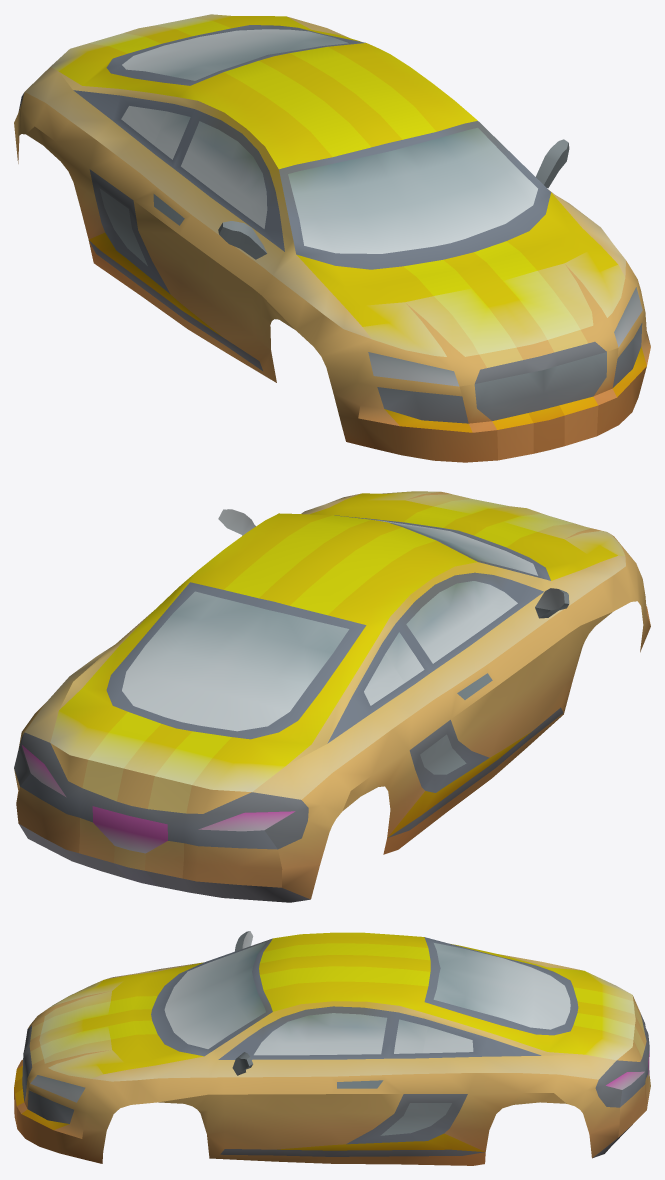
The model's file is supercar_00.glb.
The picture shows the model from 3 angles, top to bottom: view 1: azimuth 30°, elevation 25°; view 2: azimuth 150°, elevation 25°; view 3: azimuth 270°, elevation 25°; orthographic projection. The views are drawn at different scales.
Visible parts, largest first — view 1: supercar_00; view 2: supercar_00; view 3: supercar_00.
Boxes of the visible parts, x1,y1,x2,y2 form: supercar_00: [14, 14, 650, 462]; supercar_00: [14, 491, 650, 902]; supercar_00: [14, 931, 650, 1165].
Bounding box in the file's own units: 2.14 × 1.17 × 4.46.
